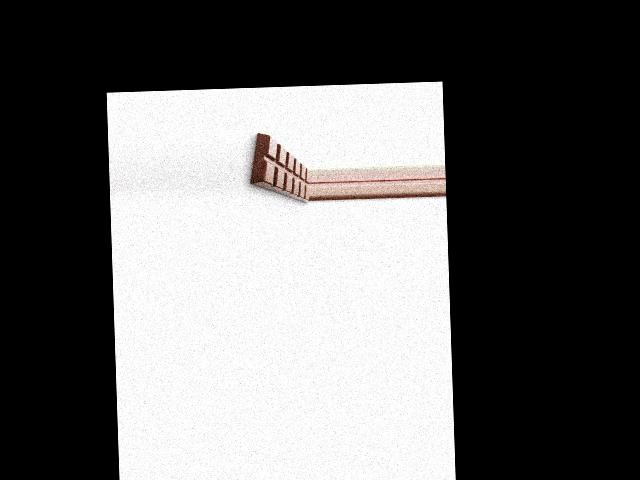chocolate: (247, 131, 308, 209)
